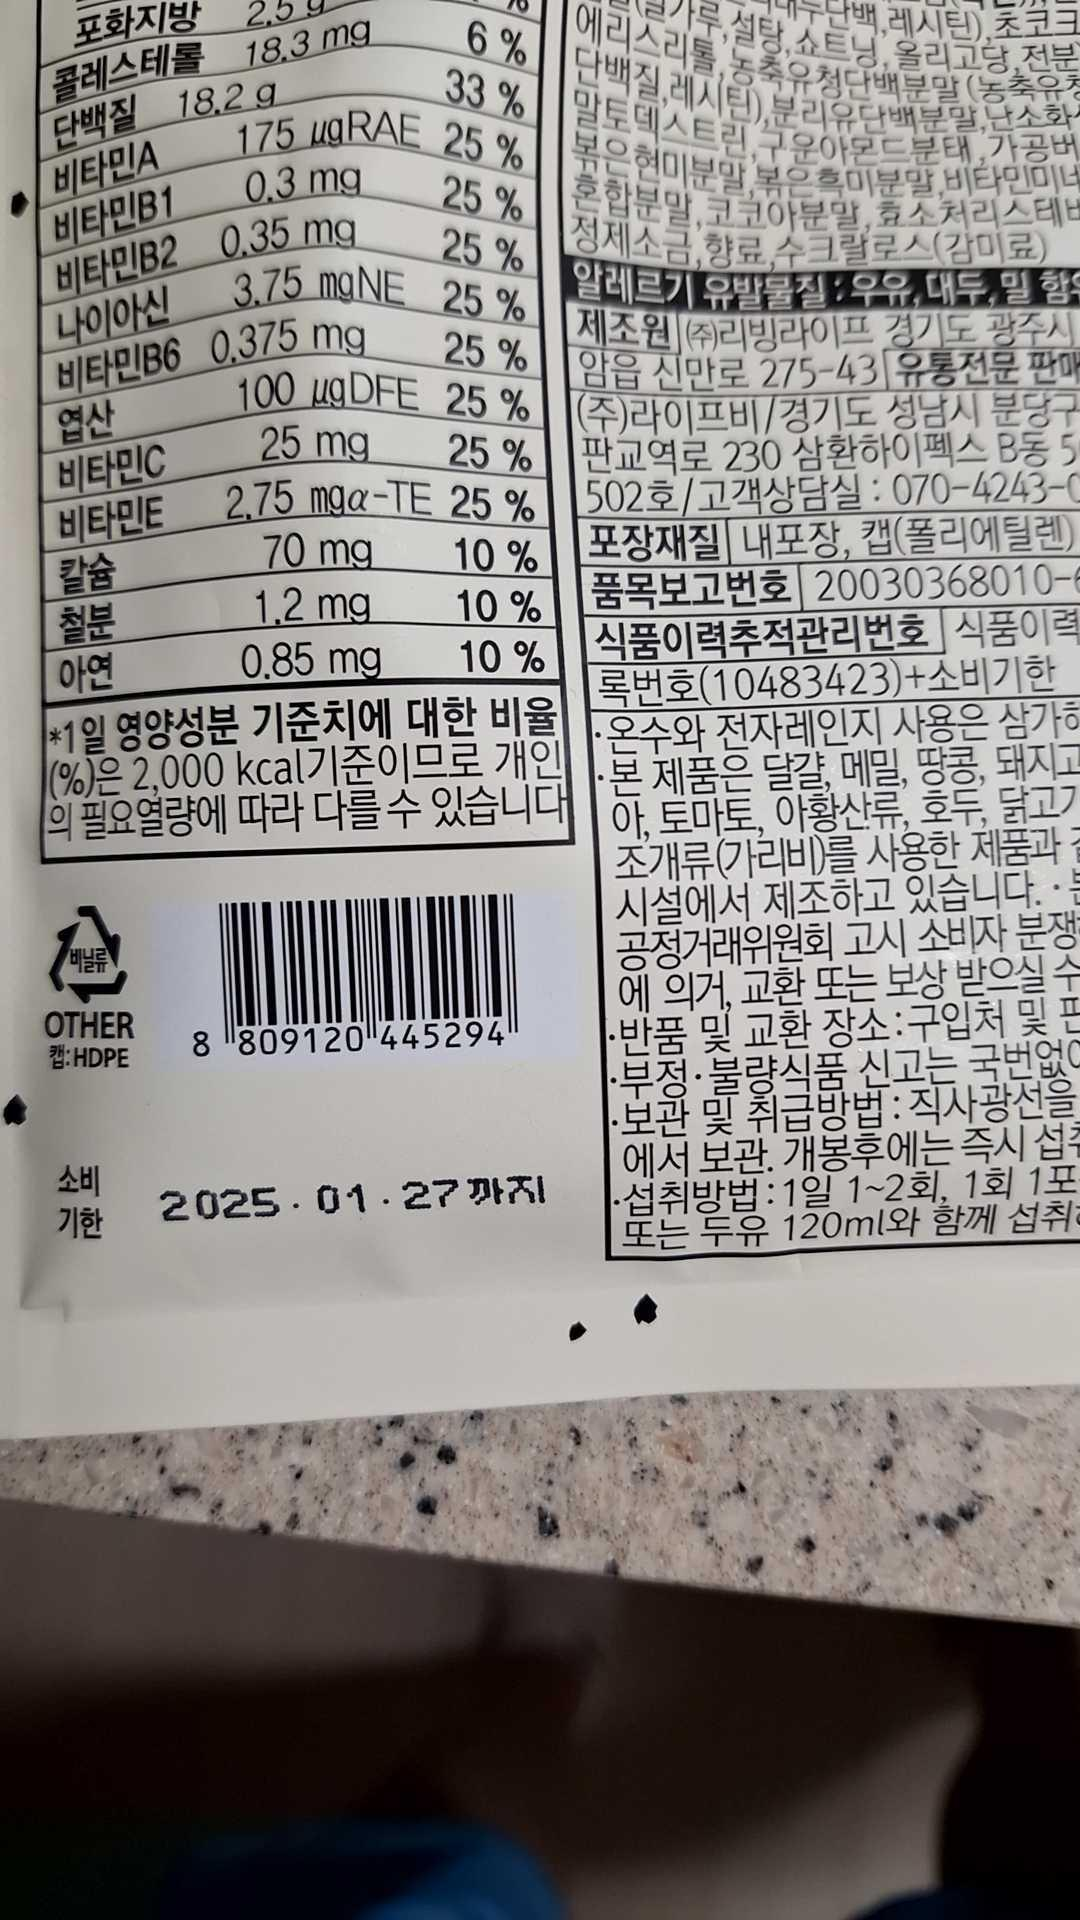milk-2800-2024-9-20: (167, 899, 553, 1052)
